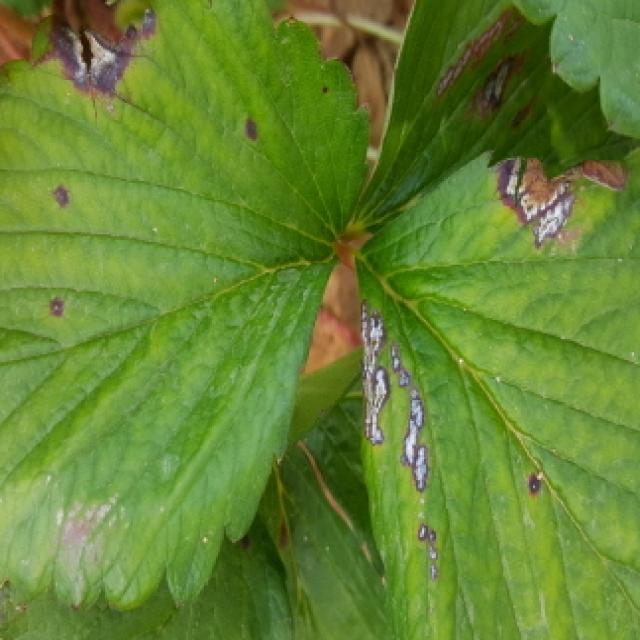Leaf Spot: (0, 0, 371, 611), (351, 144, 640, 640), (0, 344, 391, 640), (343, 0, 640, 233)
